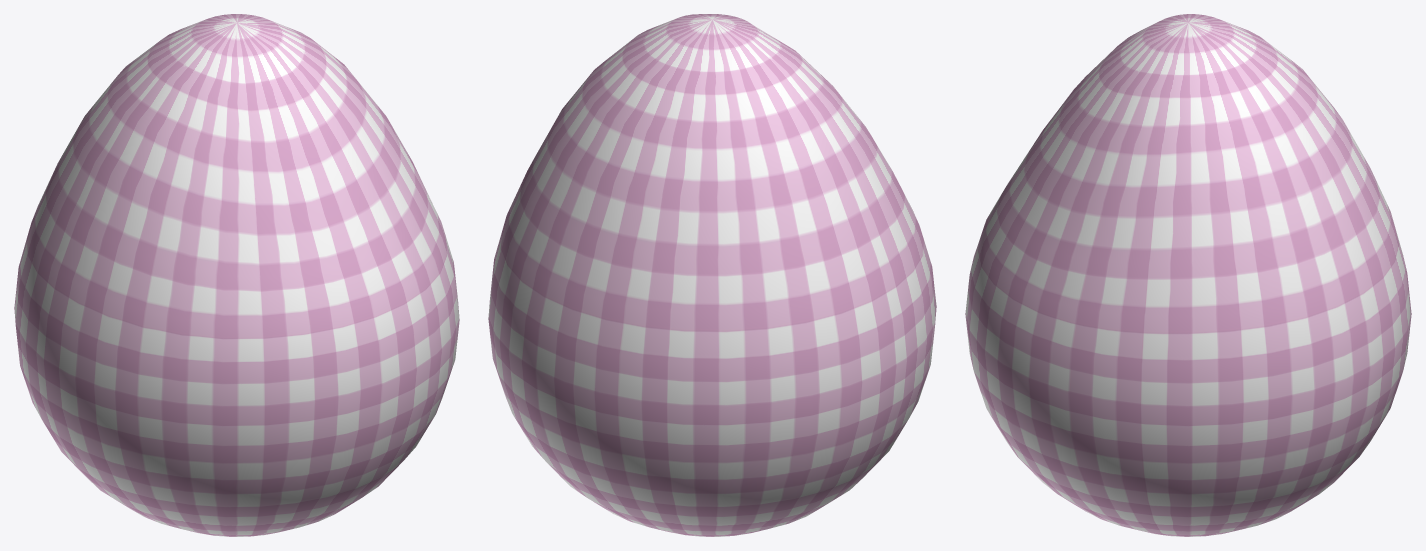
Rendered from pink_egg.glb.
3 views of the same model, side by side, from view 1: azimuth 30°, elevation 25°; view 2: azimuth 150°, elevation 25°; view 3: azimuth 270°, elevation 25° (orthographic).
Visible parts, largest first — view 1: Sphere; view 2: Sphere; view 3: Sphere.
Boxes of the visible parts, x1=… form: Sphere: x1=14, y1=14, x2=459, y2=536; Sphere: x1=488, y1=14, x2=936, y2=536; Sphere: x1=965, y1=14, x2=1411, y2=536.
Size of the model in its own units: 2 by 2.44 by 2.
Materials: 1 (1 with a texture image).
